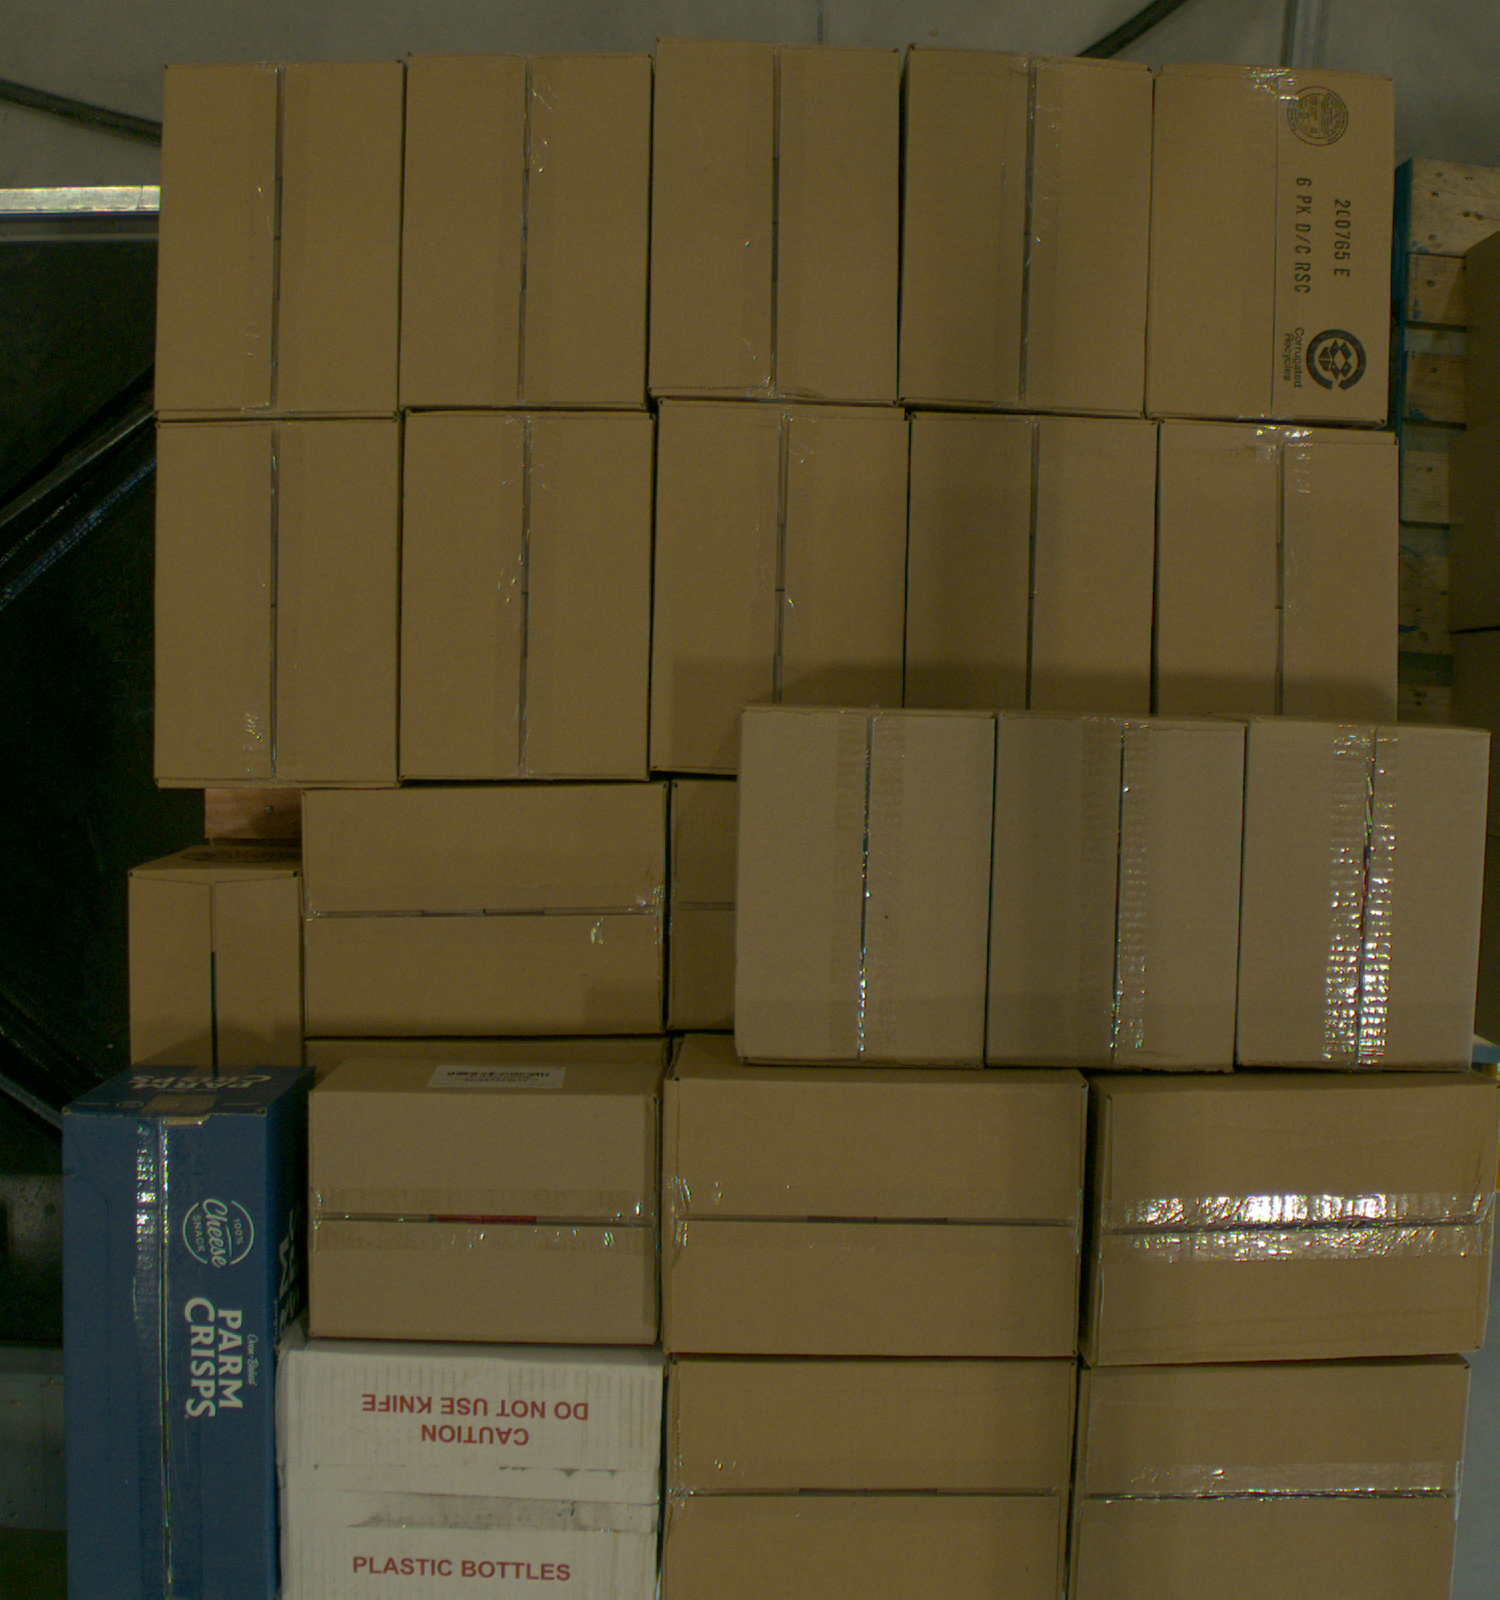box top: (664, 1078, 1088, 1355), (1094, 1083, 1500, 1366), (62, 1129, 273, 1600), (663, 1363, 1078, 1600), (276, 1350, 663, 1600), (651, 400, 908, 775), (1069, 1365, 1473, 1600), (985, 713, 1246, 1076), (899, 47, 1153, 419), (400, 412, 654, 781), (737, 708, 995, 1070), (305, 785, 667, 1038), (650, 38, 899, 403), (154, 59, 405, 419), (400, 52, 653, 407), (1148, 63, 1394, 426), (158, 419, 400, 787), (1239, 722, 1492, 1071), (309, 1093, 660, 1343), (905, 413, 1157, 718), (1159, 421, 1398, 723), (130, 873, 302, 1081), (670, 781, 737, 1029)
